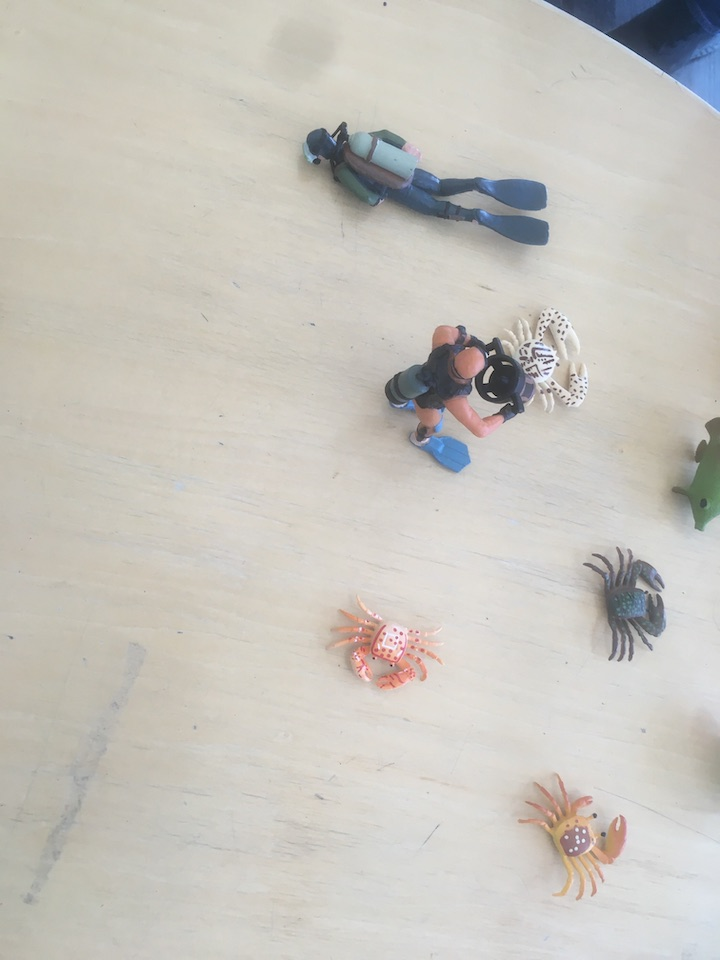crab: (517, 770, 629, 904), (324, 593, 447, 699), (489, 305, 592, 418), (581, 544, 671, 667)
diver: (296, 117, 554, 248), (381, 319, 537, 480)
fish: (672, 409, 720, 537)
